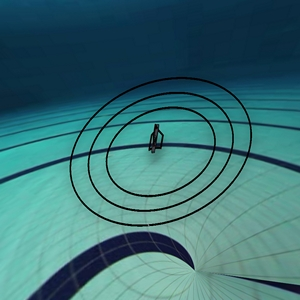circle: (53, 46, 277, 254)
submarine: (139, 116, 172, 159)
